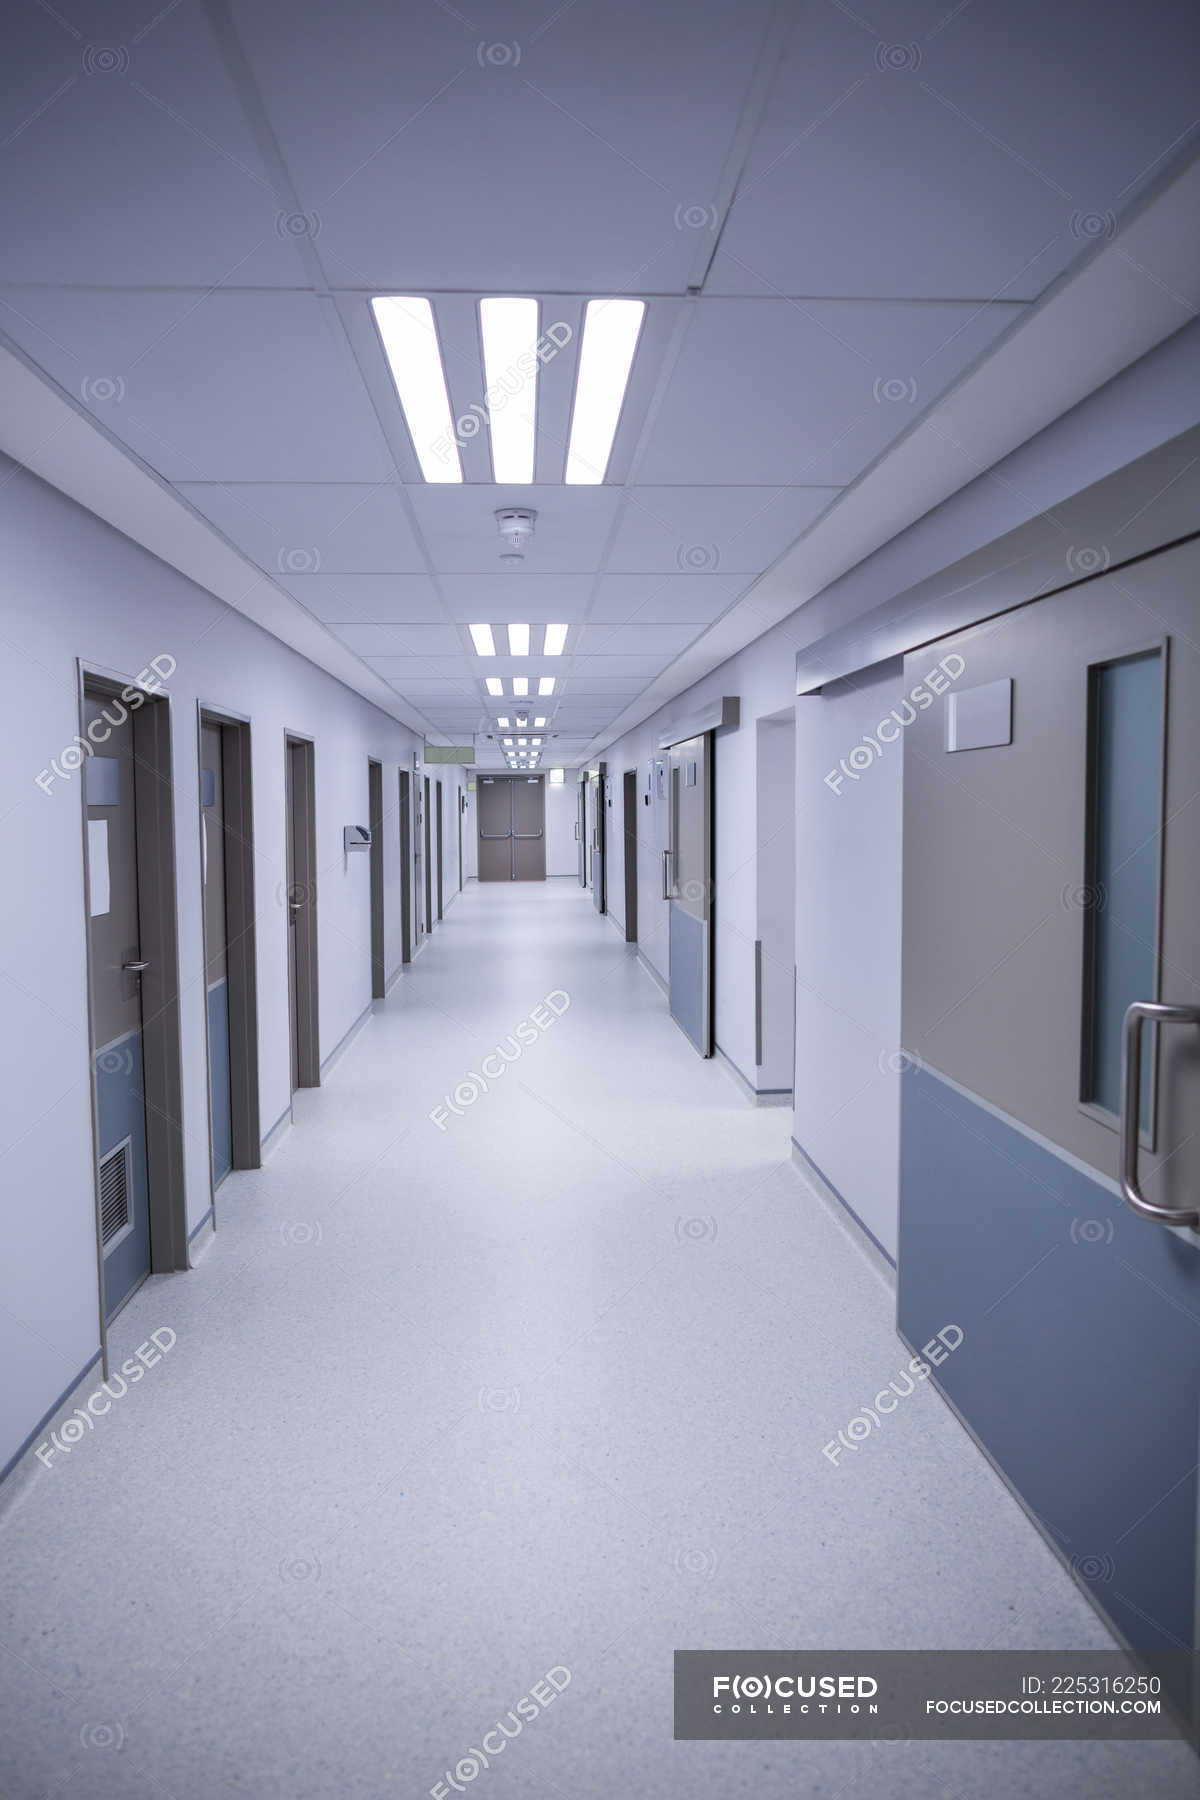door_handle: (1116, 991, 1200, 1229), (658, 850, 679, 905), (121, 946, 154, 976), (478, 826, 544, 840), (287, 895, 313, 917), (589, 826, 601, 860), (575, 821, 583, 846)
